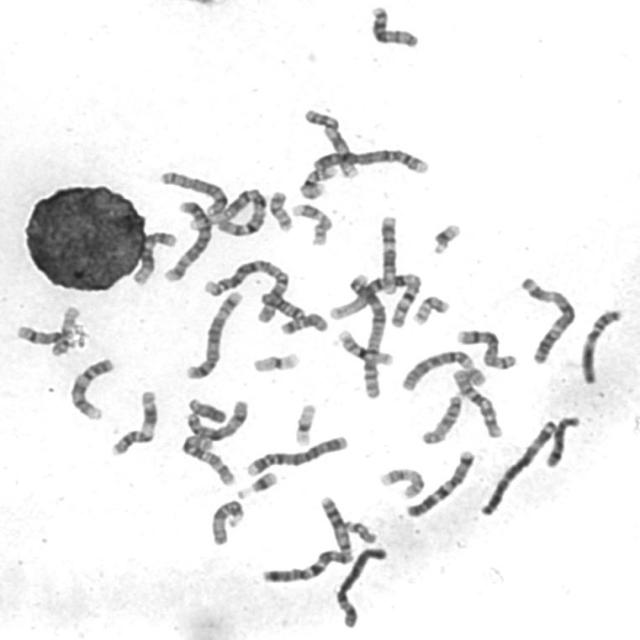A1: (325, 269, 424, 326), (190, 182, 271, 236)
A2: (200, 255, 294, 325), (344, 269, 388, 401)
A3: (477, 416, 559, 518), (516, 271, 580, 367)
B4: (241, 431, 350, 478), (332, 542, 389, 630)
B5: (181, 285, 245, 382), (159, 196, 213, 284)
C10: (448, 366, 505, 440), (177, 431, 238, 488)
C11: (573, 308, 627, 382), (106, 386, 160, 457)
C12: (129, 227, 179, 287), (376, 210, 400, 297)
C6: (304, 142, 435, 186), (397, 346, 488, 393)
C7: (401, 446, 477, 519), (258, 545, 356, 585)
C8: (156, 168, 230, 220), (452, 325, 519, 371)
C9: (299, 105, 361, 180), (65, 354, 117, 422)
D13: (367, 1, 421, 49), (315, 492, 354, 557)
D14: (542, 413, 588, 470), (11, 322, 76, 346)
D15: (417, 390, 465, 447), (207, 497, 246, 548)
E16: (333, 325, 394, 367), (295, 162, 339, 200)
E17: (288, 200, 334, 248), (375, 464, 427, 500)
E18: (256, 288, 307, 323), (277, 308, 329, 337)
F19: (248, 348, 302, 374), (290, 400, 319, 448)
F20: (409, 291, 452, 327), (264, 188, 295, 231)
G21: (233, 468, 280, 500), (428, 219, 463, 256)
G22: (340, 517, 378, 547), (45, 323, 74, 360)
X: (182, 396, 250, 442)
Y: (184, 394, 227, 424)
